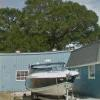Boat: (19, 66, 84, 96)
